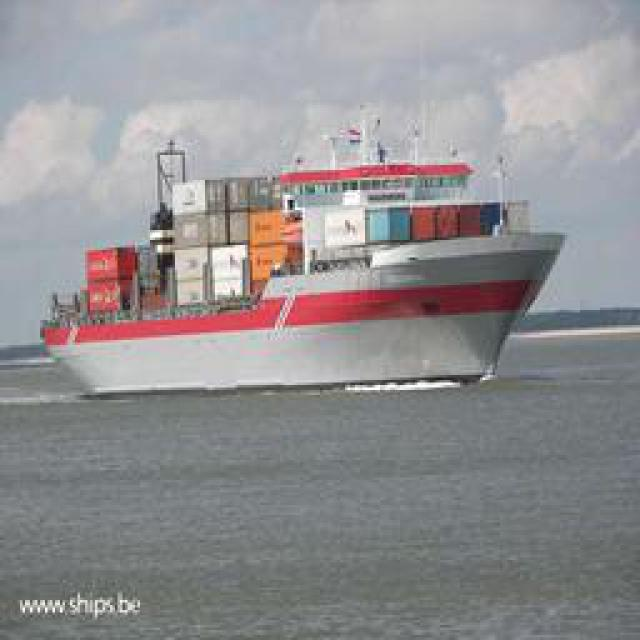Ship: (45, 116, 565, 386)
